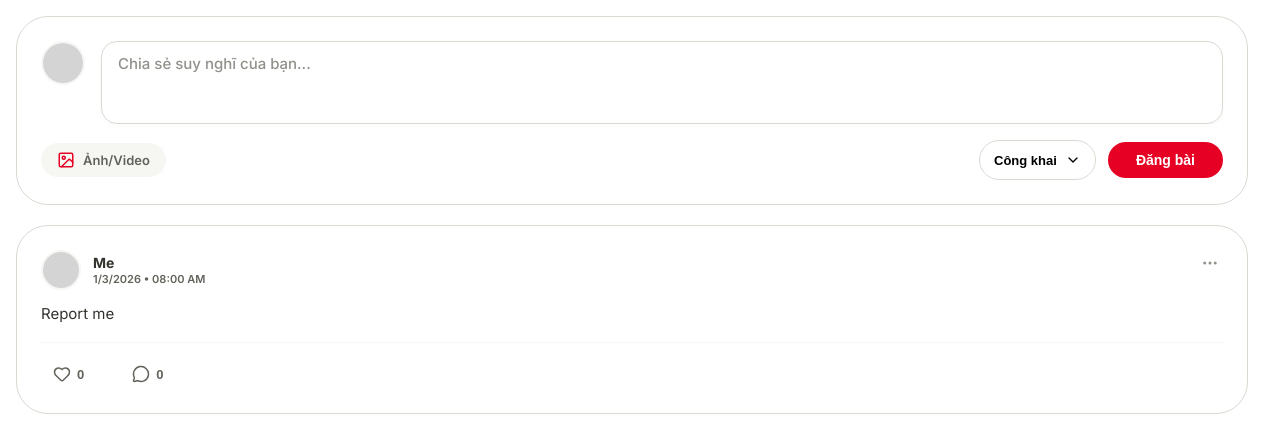
Test: Feed — report / block / delete / edit › owner_menu_shows_edit_and_delete_not_report
This screenshot has width=1265, height=432.
Expected: the text box with id "feed-post-input" is shown, [101, 41, 1223, 124]
Click the 3rd button at (1210, 264), box [1197, 250, 1223, 279]
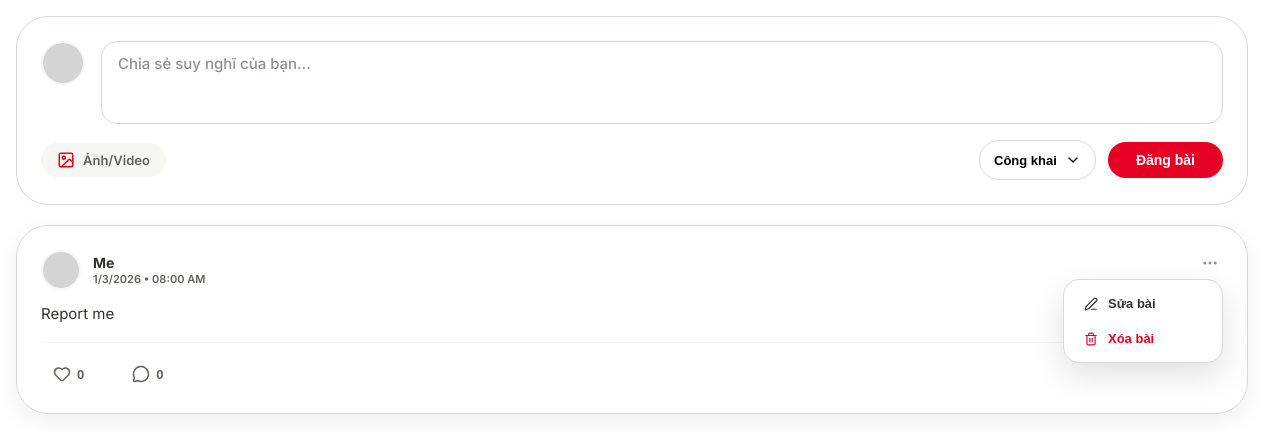
Result: the button "Sửa bài" is shown at [1070, 286, 1216, 321]
Result: the button "Xóa bài" is shown at [1070, 321, 1216, 356]
